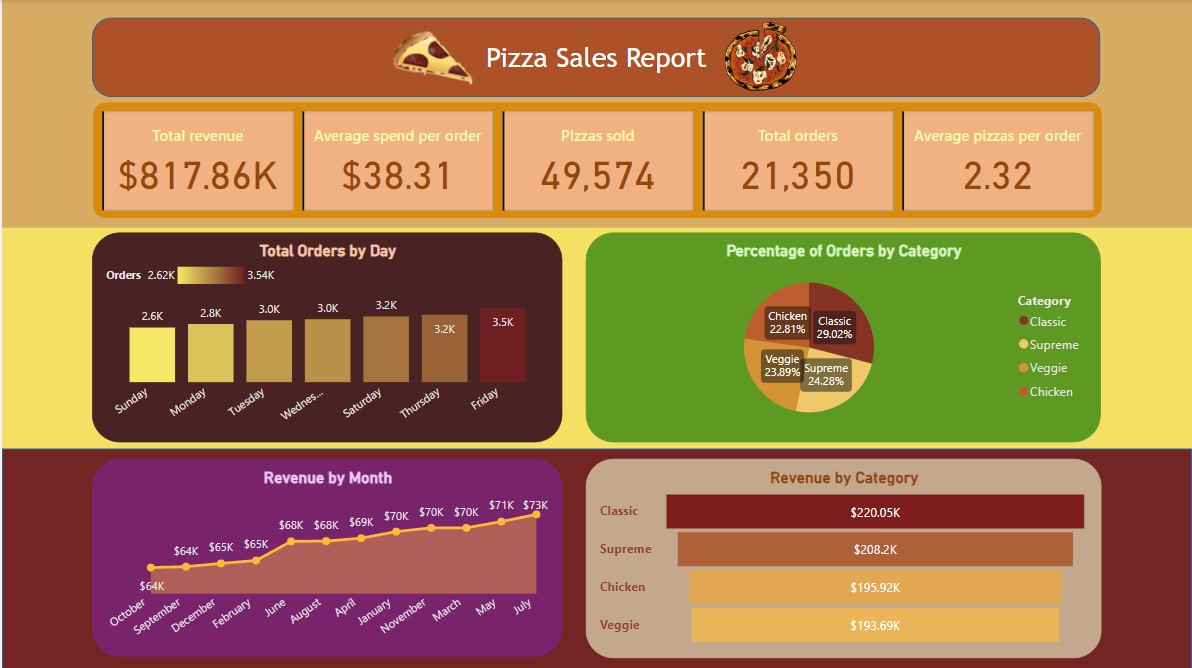

What the dashboard file says about the page in this screenshot:
{"tool":"powerbi","page":{"name":"Page 1","canvas":[1280,720],"ordinal":0},"visuals":[{"type":"shape","box":[0,244.6,1280.5,244.6],"z":1000},{"type":"shape","box":[0,483,1280,237],"z":1500},{"type":"shape","box":[0,0,1280.5,244.6],"z":2000},{"type":"cardVisual","fields":{"Data":["Sum(total_revenue.total_revenue)","Sum(avg_spend.avg_spend)","Sum(pizzas_sold.total_pizzas_sold)","Sum(total_orders.total_orders)","Sum(avg_pizza.avg_pizza_per_order)"]},"box":[98.6,110,1084.3,124.3],"z":3000},{"type":"columnChart","title":"Total Orders by Day","fields":{"Category":["orders_by_day.day_name"],"Y":["Sum(orders_by_day.total_orders)"]},"box":[97.1,250,505.7,225.7],"z":4000},{"type":"areaChart","fields":{"Category":["monthly_revenue.month_name"],"Y":["Sum(monthly_revenue.total_revenue)"]},"box":[97.1,492.9,505.7,212.9],"z":5000},{"type":"pieChart","fields":{"Category":["revenues_across_pizzas.category"],"Y":["Sum(revenues_across_pizzas.total_orders)"]},"box":[627.5,249.9,553.6,225.7],"z":6000},{"type":"funnel","fields":{"Category":["revenues_across_pizzas.category"],"Y":["Sum(revenues_across_pizzas.total_revenue)"]},"box":[627.1,492.9,554.3,214.3],"z":7000},{"type":"shape","box":[97.1,18.6,1084.3,85.7],"z":8000},{"type":"image","box":[415.7,14.3,95.7,95.7],"z":9000},{"type":"image","box":[760,8.6,108.6,104.3],"z":9001}]}

Visuals, with their boxes in screenshot pixels (x1, y1, x2, y2), scaled from the page's 1280x720 canvas onto the 1192x668 screenshot:
shape: locate(0, 227, 1191, 454)
shape: locate(0, 448, 1191, 667)
shape: locate(0, 0, 1191, 227)
cardVisual - Sum(total_revenue.total_revenue) x Sum(avg_spend.avg_spend): locate(92, 102, 1102, 217)
"Total Orders by Day" columnChart: locate(90, 232, 561, 441)
areaChart - monthly_revenue.month_name x Sum(monthly_revenue.total_revenue): locate(90, 457, 561, 655)
pieChart - revenues_across_pizzas.category x Sum(revenues_across_pizzas.total_orders): locate(584, 232, 1100, 441)
funnel - revenues_across_pizzas.category x Sum(revenues_across_pizzas.total_revenue): locate(584, 457, 1100, 656)
shape: locate(90, 17, 1100, 97)
image: locate(387, 13, 476, 102)
image: locate(708, 8, 809, 105)
